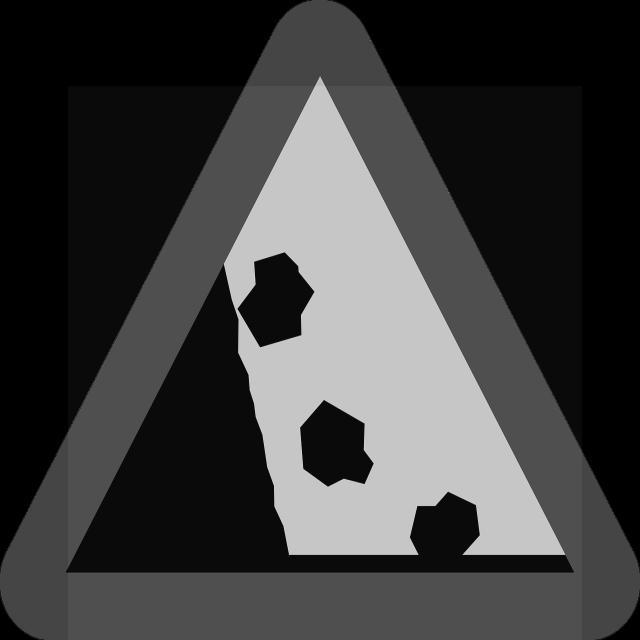falling rocks: (39, 26, 594, 609)
